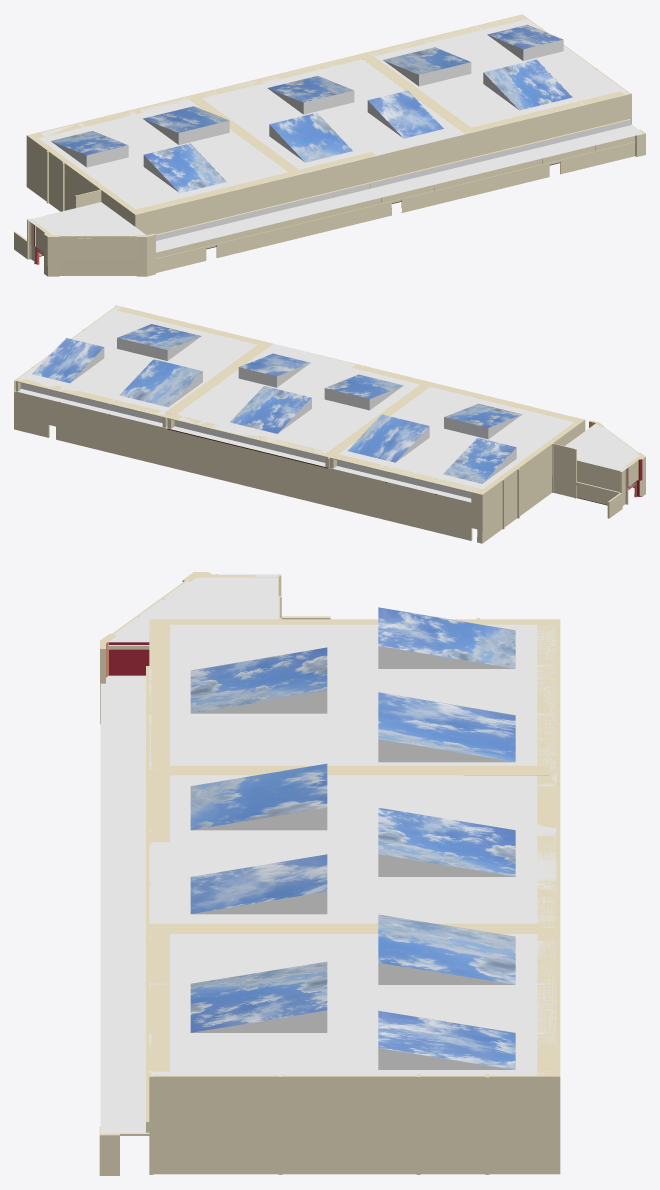
The model's file is structure 1.fbx.
3 renders of one model, top to bottom at view 1: azimuth 30°, elevation 25°; view 2: azimuth 150°, elevation 25°; view 3: azimuth 270°, elevation 25°, orthographic. The views are drawn at different scales.
Parts seen in each view (by area): view 1: Cube; view 2: Cube; view 3: Cube.
Boxes of the visible parts, <box> form: Cube: <box>14,14,645,276</box>; Cube: <box>14,305,645,543</box>; Cube: <box>99,572,560,1175</box>.
Bounding box in the file's own units: 10664 × 1146 × 3925.
